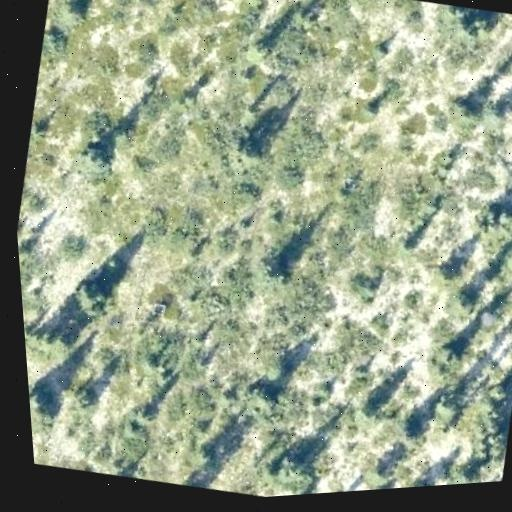tree-top: (222, 125, 275, 177), (462, 409, 512, 464), (24, 316, 76, 368), (65, 270, 118, 321), (437, 279, 488, 330), (268, 442, 318, 494), (436, 2, 491, 47), (471, 194, 512, 251), (28, 374, 66, 435), (249, 248, 296, 297), (238, 375, 286, 421), (440, 86, 487, 131), (428, 333, 476, 376), (74, 136, 119, 181), (387, 408, 430, 451), (349, 390, 392, 431), (64, 379, 104, 420), (427, 387, 465, 425), (478, 369, 512, 409), (38, 21, 71, 62), (426, 254, 462, 291), (360, 456, 398, 490), (102, 118, 137, 153), (53, 0, 93, 30), (240, 29, 275, 63), (446, 457, 486, 485), (477, 100, 507, 135), (389, 229, 422, 259), (134, 399, 160, 425), (27, 114, 50, 143), (172, 473, 206, 490), (237, 0, 269, 14), (505, 235, 512, 274)
